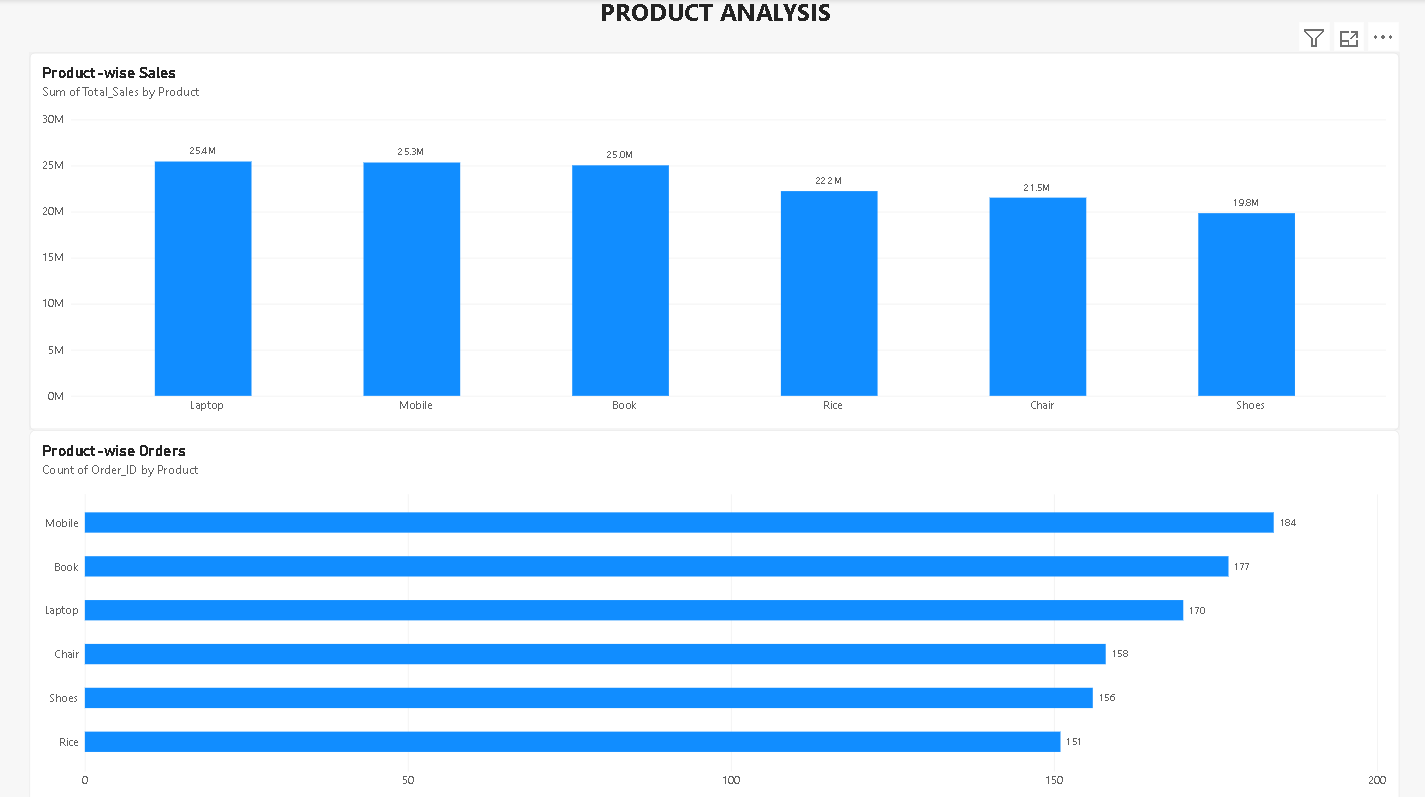

What the dashboard file says about the page in this screenshot:
{"tool":"powerbi","page":{"name":"Product Analysis","canvas":[1920,1080],"ordinal":3},"visuals":[{"type":"textbox","box":[10,0,1910,150],"z":0},{"type":"clusteredColumnChart","title":"Product-wise Sales","fields":{"Category":["sales_cleaned.Product"],"Y":["Sum(sales_cleaned.Total_Sales)"]},"box":[50,76,1826,504],"z":1},{"type":"clusteredBarChart","title":"Product-wise Orders","fields":{"Category":["sales_cleaned.Product"],"Y":["Count(sales_cleaned.Order_ID)"]},"box":[50,580,1826,500],"z":2}]}

Visuals, with their boxes in screenshot pixels (x1, y1, x2, y2), scaled from the page's 1920x1080 canvas onto the 1425x797 screenshot:
textbox: 7:0:1424:111
"Product-wise Sales" clusteredColumnChart: 37:56:1392:428
"Product-wise Orders" clusteredBarChart: 37:428:1392:796
